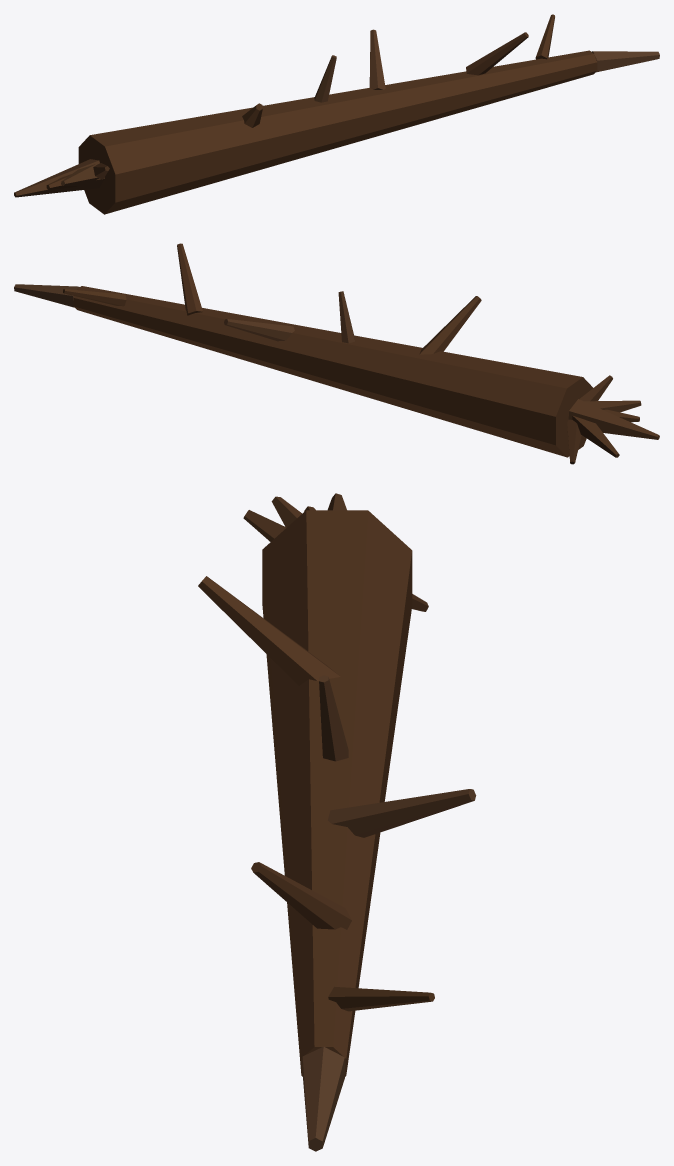
File: DeadBranch.glb
The picture shows the model from 3 angles, top to bottom: view 1: azimuth 30°, elevation 25°; view 2: azimuth 150°, elevation 25°; view 3: azimuth 270°, elevation 25°; orthographic projection. The views are drawn at different scales.
Visible parts, largest first — view 1: Body; view 2: Body; view 3: Body.
Boxes of the visible parts, x1=… form: Body: x1=14, y1=14, x2=659, y2=214; Body: x1=14, y1=243, x2=659, y2=464; Body: x1=198, y1=493, x2=476, y2=1151.
Size of the model in its own units: 5.45 by 0.8022 by 1.03.
